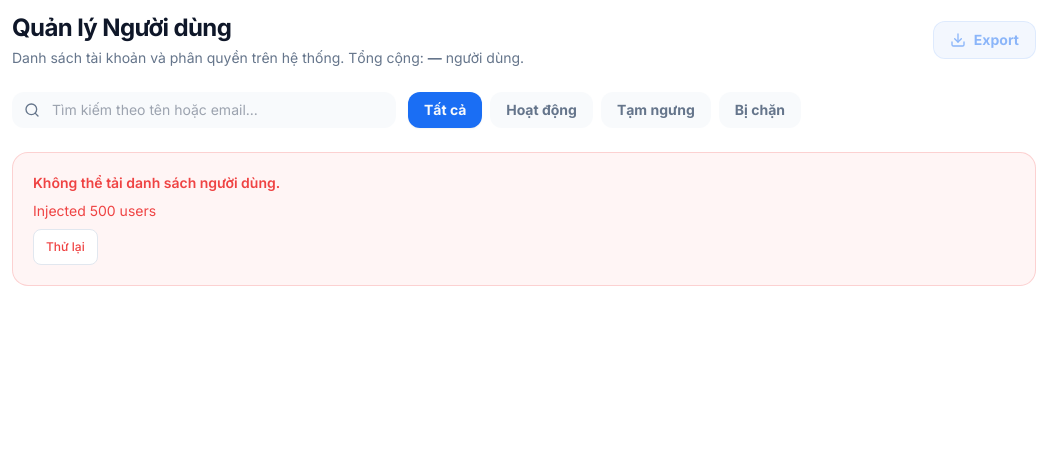
Test: admin query states › keeps user search/filter state and retries the failed list
Check: the message "Không thể tải danh sách người dùng. Injected 500 users Thử lại" is shown, box [12,152,1036,286]
Check: the text "Không tìm thấy người dùng nào." is not shown
Type "Lan" into the field with placeholder "Tìm kiếm theo tên hoặc email..." at x=204, y=110, box [12,92,396,128]
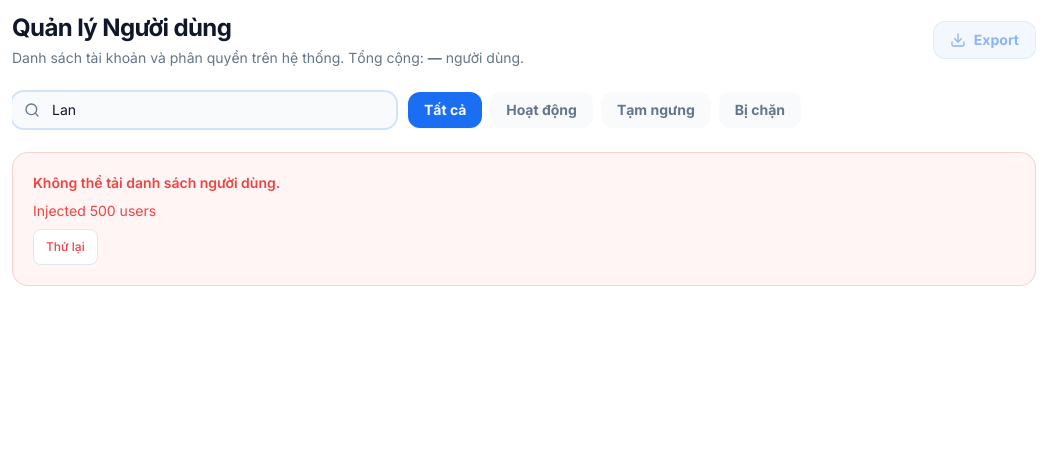
Click the button "Bị chặn" at x=760, y=110, box [719,92,801,128]
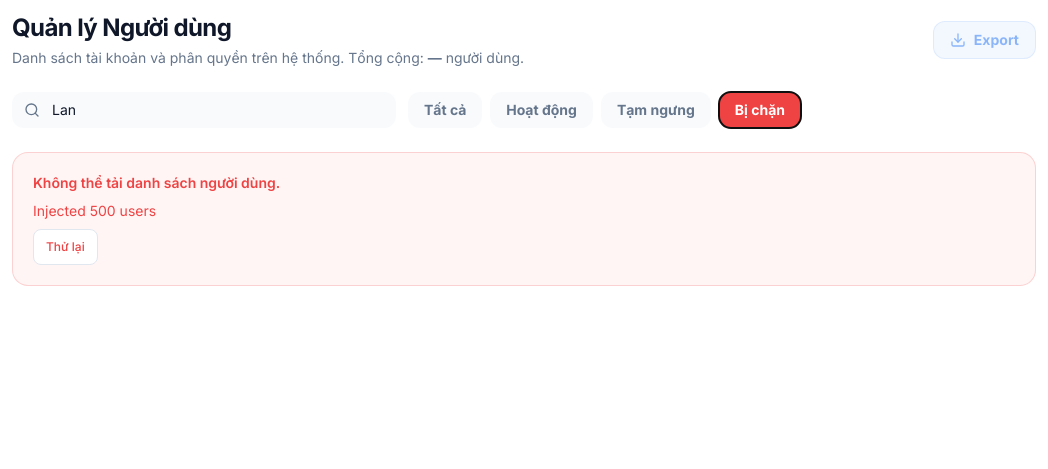
Check: the message "Không thể tải danh sách người dùng. Injected 500 users Thử lại" is shown, box [12,152,1036,286]
Click the button "Thử lại" at x=65, y=247, box [33,229,98,265]
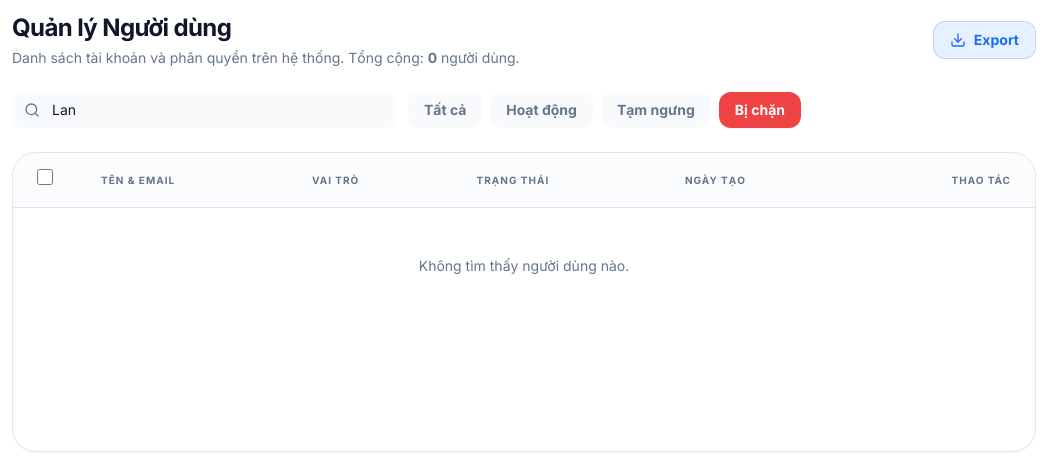
Check: the text "Không tìm thấy người dùng nào." is shown, box [13,208,1035,324]
